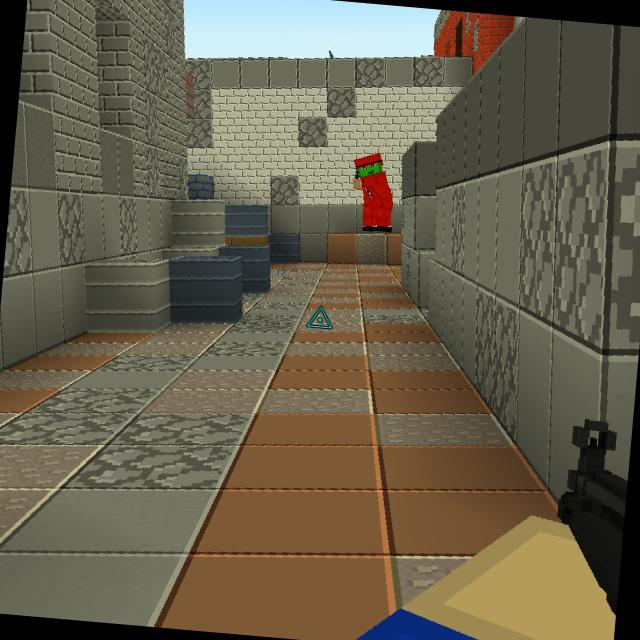enemy: (348, 147, 399, 235)
